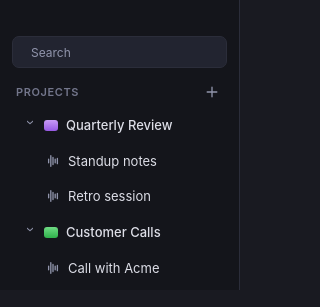
it: Sidebar › auto-expands a project that contains a matching recording even if the project name doesn't match
Type "acme" into the search field named "Search projects and recordings" at [127, 52], box [31,44,223,60]
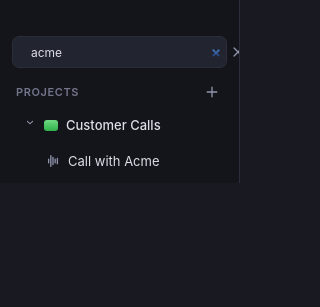
Expected: the text "Customer Calls" is shown, [66,117,161,133]
Expected: the button "Standup notes" is gone
